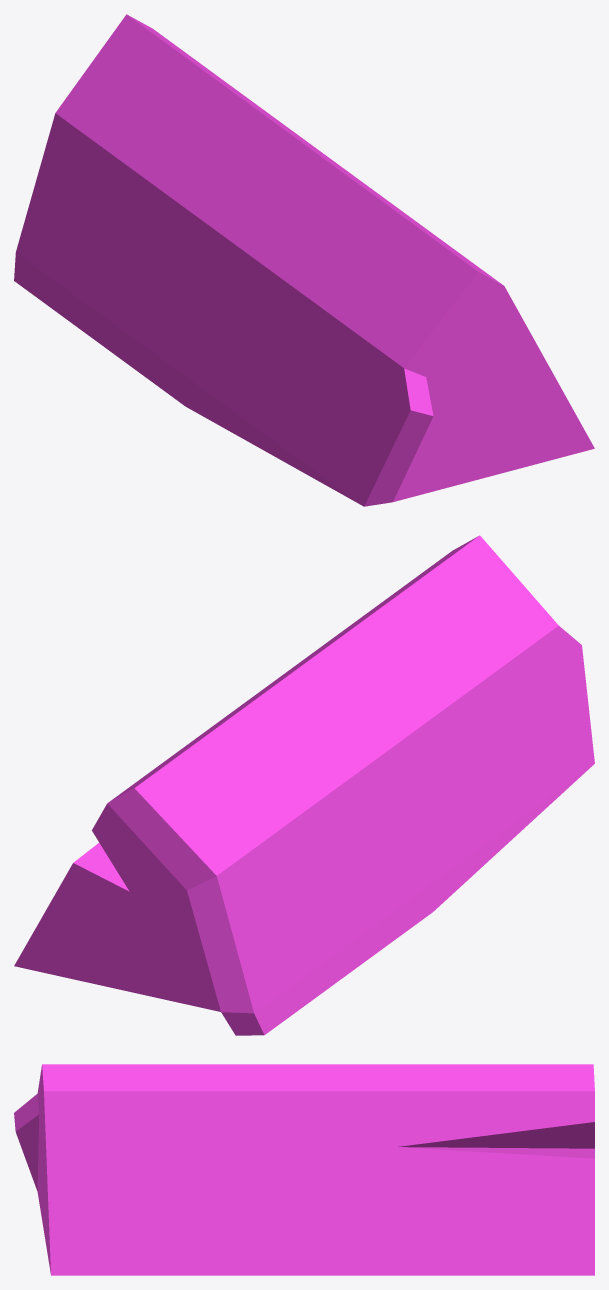
The model's file is SM_Wood_Chunk_B_Fantasy.fbx.
The picture shows the model from 3 angles, top to bottom: view 1: azimuth 30°, elevation 25°; view 2: azimuth 150°, elevation 25°; view 3: azimuth 270°, elevation 25°; orthographic projection. The views are drawn at different scales.
Parts seen in each view (by area): view 1: SM_Wood_Chunk_B_Fantasy; view 2: SM_Wood_Chunk_B_Fantasy; view 3: SM_Wood_Chunk_B_Fantasy.
Part boxes in pixels (box(x1,y1,x2,y2)): SM_Wood_Chunk_B_Fantasy: box(14, 14, 594, 506); SM_Wood_Chunk_B_Fantasy: box(14, 535, 594, 1035); SM_Wood_Chunk_B_Fantasy: box(14, 1064, 594, 1275).
Size of the model in its own units: 0.1904 by 0.1725 by 0.5002.
